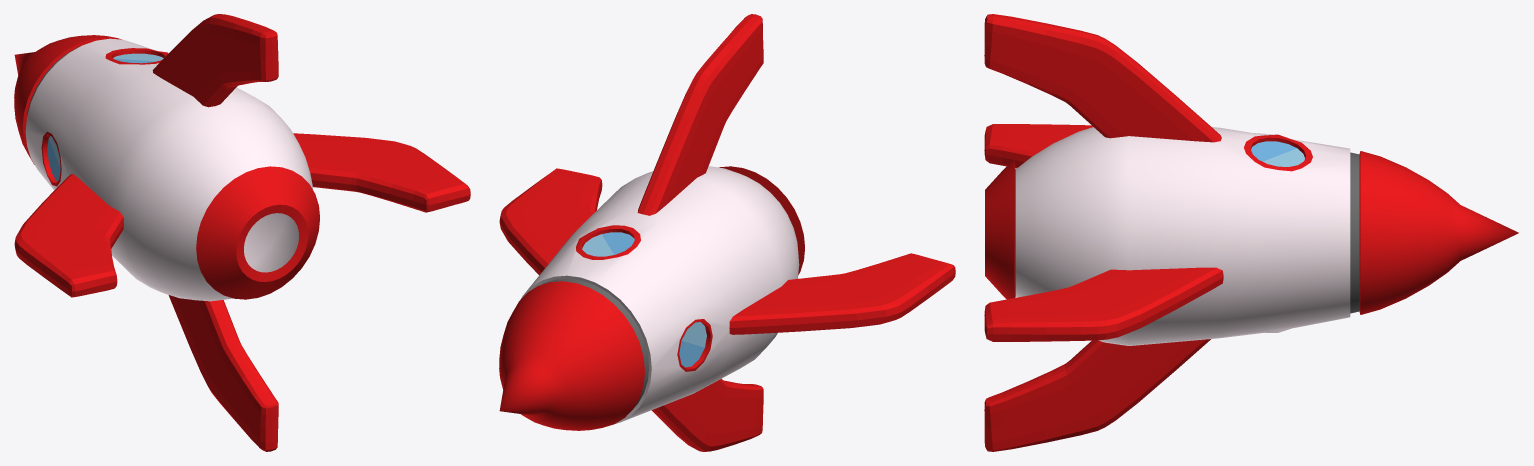
File: Rocket (4).fbx
The picture shows the model from 3 angles, left to right: view 1: azimuth 30°, elevation 25°; view 2: azimuth 150°, elevation 25°; view 3: azimuth 270°, elevation 25°; orthographic projection. The views are drawn at different scales.
Visible parts, largest first — view 1: Circle; view 2: Circle; view 3: Circle.
Boxes of the visible parts, x1,y1,x2,y2 form: Circle: [14, 14, 470, 451]; Circle: [499, 14, 955, 451]; Circle: [984, 14, 1518, 451].
Size of the model in its own units: 196 by 195 by 218.
